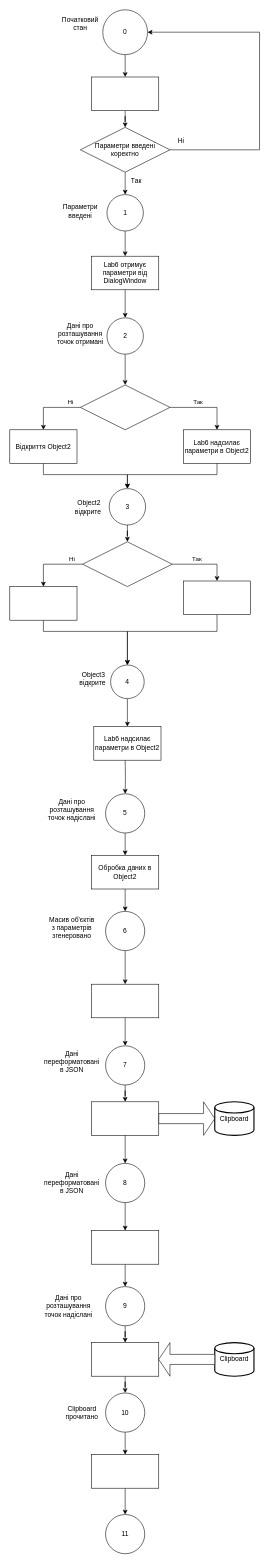
This 274x1564 diagram has some shape labels left out. Each missing label, with the centre of its shape:
Lab6 надсилає команду "update" у Object3: pixel 125 1247
Object2 відкритий?: pixel 125 407
Object2 надсилає дані у Clipboard: pixel 125 1118
Object3 будує графік із використанням Chart.js: pixel 125 1471
Object3 відкритий?: pixel 127 564
Object3 читає Clipboard: pixel 125 1359
Ввід параметрів: pixel 125 93
Відкриття Object3: pixel 43 603
Надіслати команду Update: pixel 217 597
Форматування в JSON в Obejct2: pixel 125 1001
